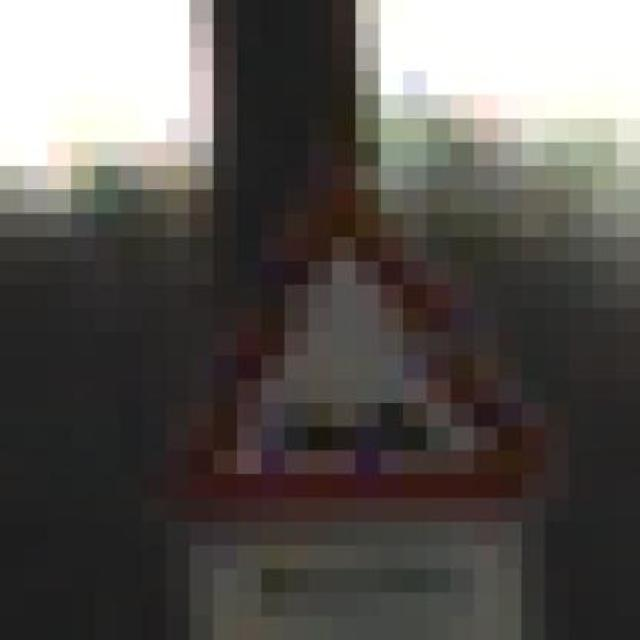Uneven Road: (142, 142, 546, 522)
